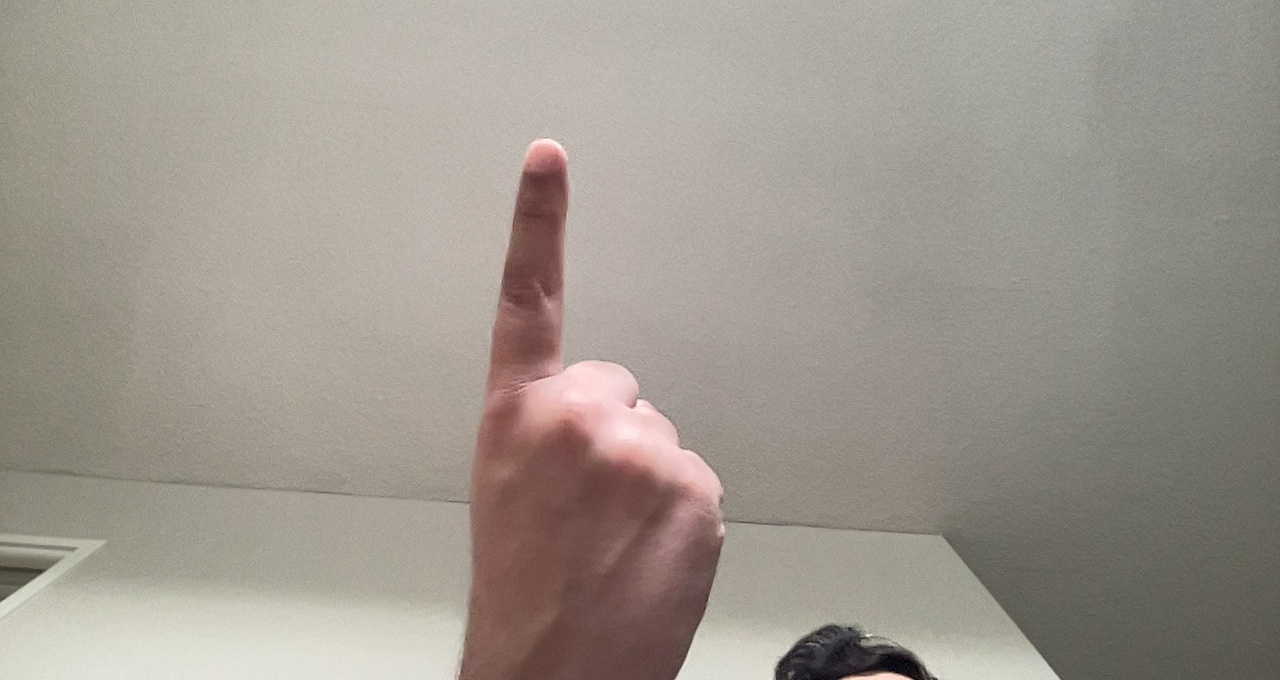fingerup: (475, 130, 739, 671)
